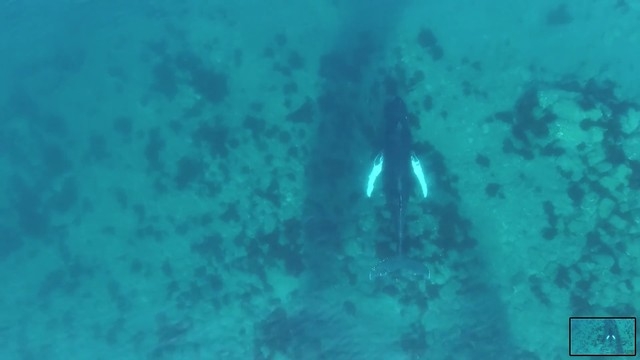whale: (359, 91, 436, 287)
